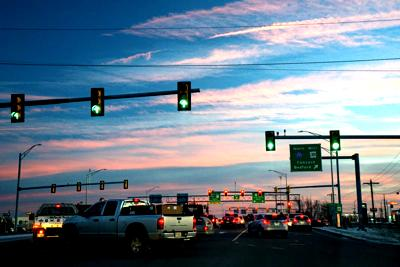International Road Signal Light: (328, 126, 344, 154), (10, 94, 25, 123), (90, 88, 105, 117), (177, 81, 191, 111), (265, 131, 275, 150)
